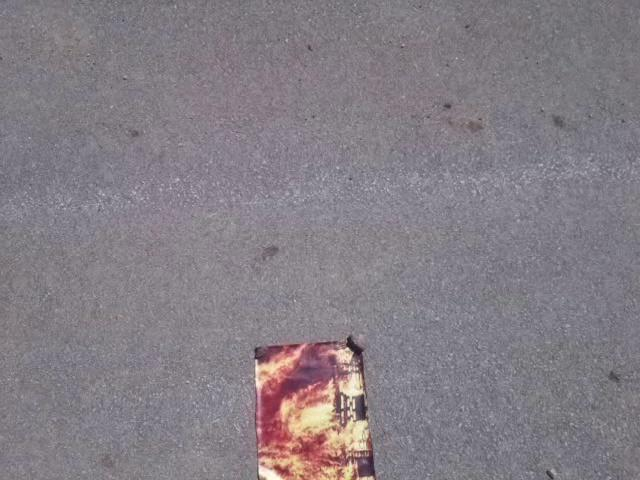fire-poster: (251, 335, 379, 479)
